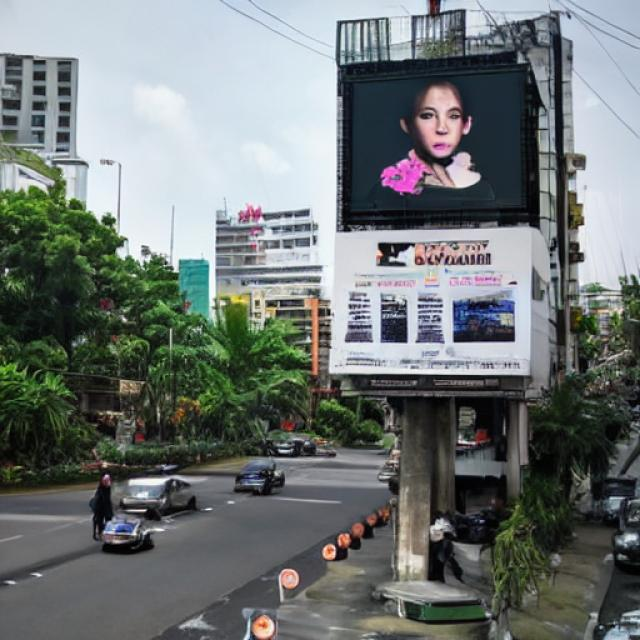Billboard: (327, 55, 538, 387)
